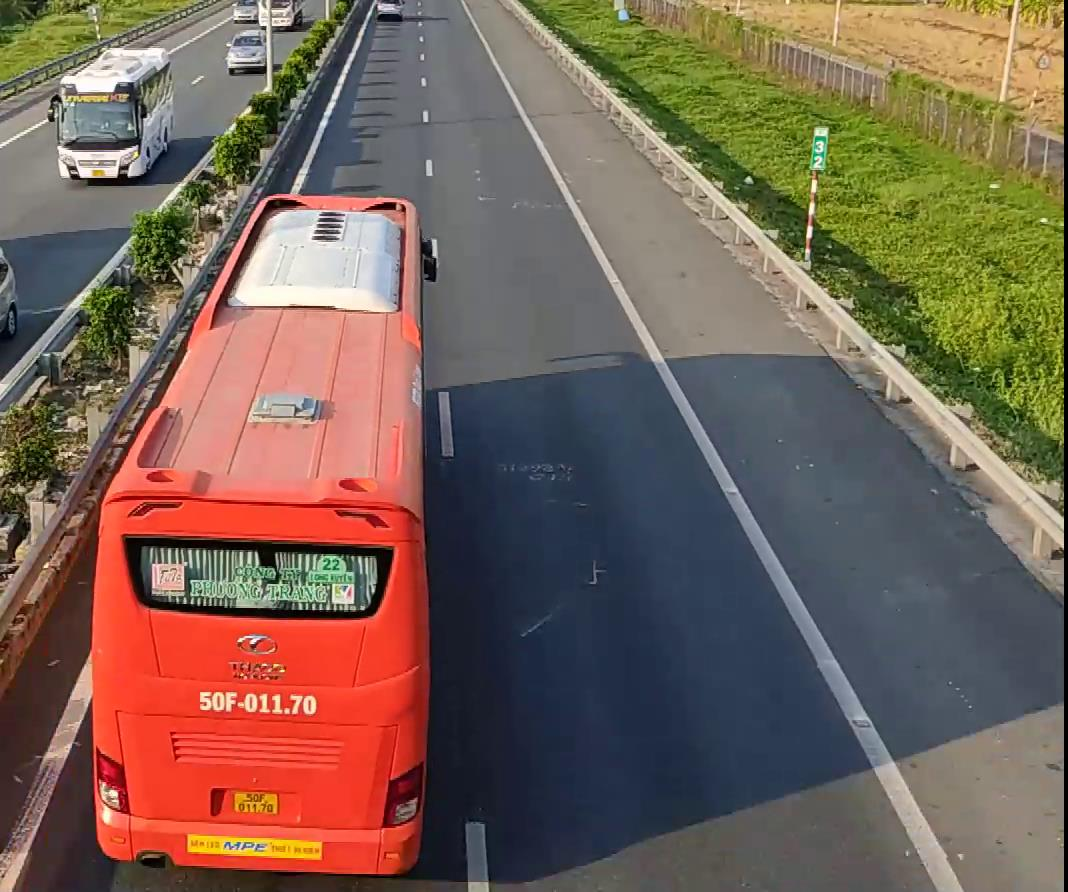bus: (85, 193, 429, 885)
truck: (52, 45, 175, 182)
